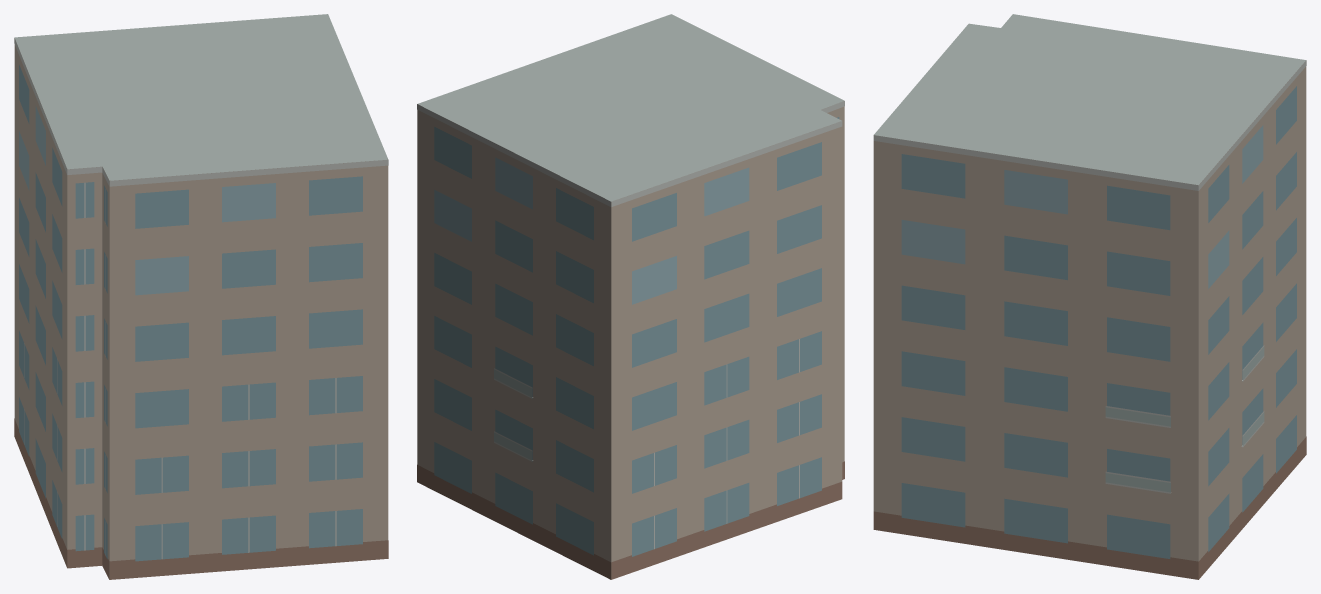
Rendered from survey-upis-32709039.glb.
The picture shows the model from 3 angles, left to right: view 1: azimuth 30°, elevation 25°; view 2: azimuth 150°, elevation 25°; view 3: azimuth 270°, elevation 25°; orthographic projection. The views are drawn at different scales.
Visible parts, largest first — view 1: survey-upis-32709039.tmp; view 2: survey-upis-32709039.tmp; view 3: survey-upis-32709039.tmp.
Part boxes in pixels (x1=…): survey-upis-32709039.tmp: x1=14, y1=14, x2=388, y2=579; survey-upis-32709039.tmp: x1=417, y1=14, x2=844, y2=579; survey-upis-32709039.tmp: x1=873, y1=14, x2=1306, y2=579.
Size of the model in its own units: 15.45 by 16.6 by 16.51.
